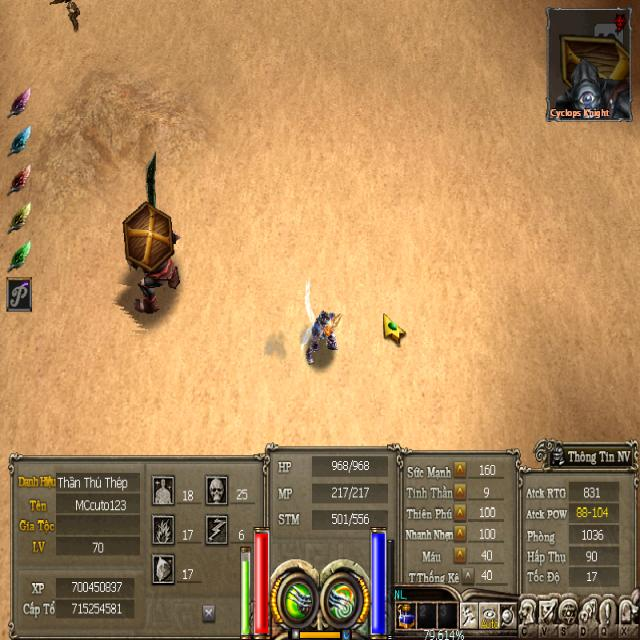monster: (113, 201, 194, 321)
